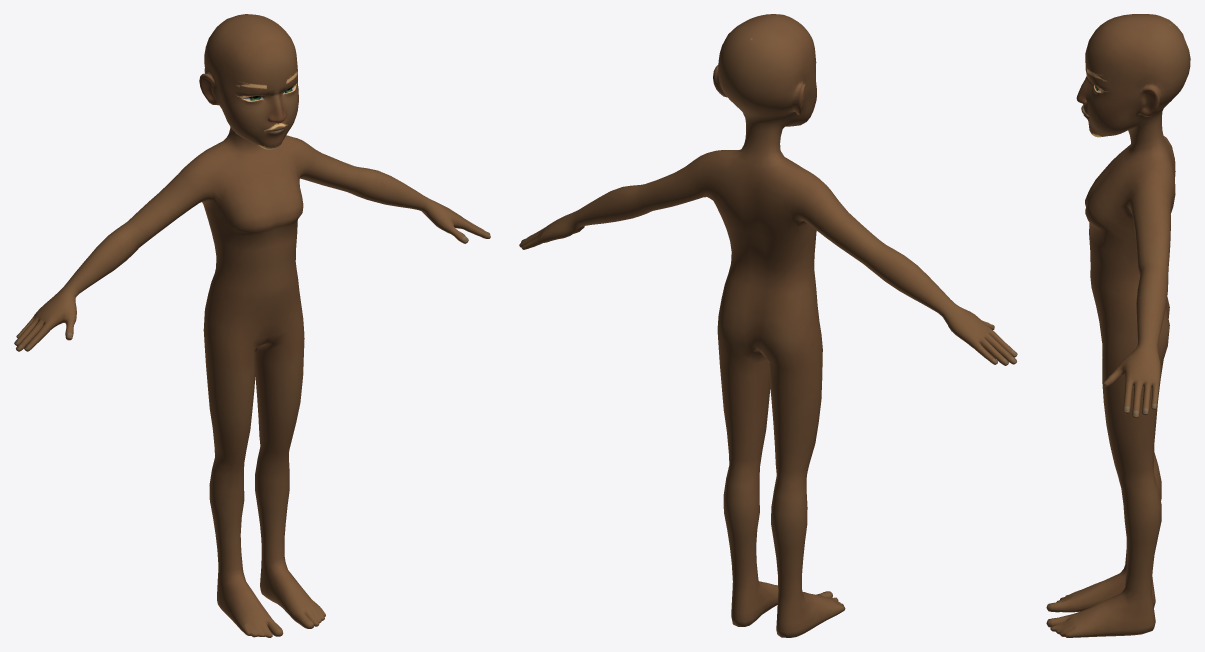
The model's file is frame_0083.glb.
3 views of the same model, side by side, from view 1: azimuth 30°, elevation 25°; view 2: azimuth 150°, elevation 25°; view 3: azimuth 270°, elevation 25° (orthographic). The views are drawn at different scales.
Parts seen in each view (by area): view 1: frame_0083_head_geo; view 2: frame_0083_head_geo; view 3: frame_0083_head_geo.
Part boxes in pixels (box(x1,y1,x2,y2)): frame_0083_head_geo: box(14, 14, 490, 637); frame_0083_head_geo: box(519, 14, 1017, 637); frame_0083_head_geo: box(1046, 14, 1190, 637).
Bounding box in the file's own units: 1.28 × 1.5 × 0.3253.
3 materials, 3 textured.
